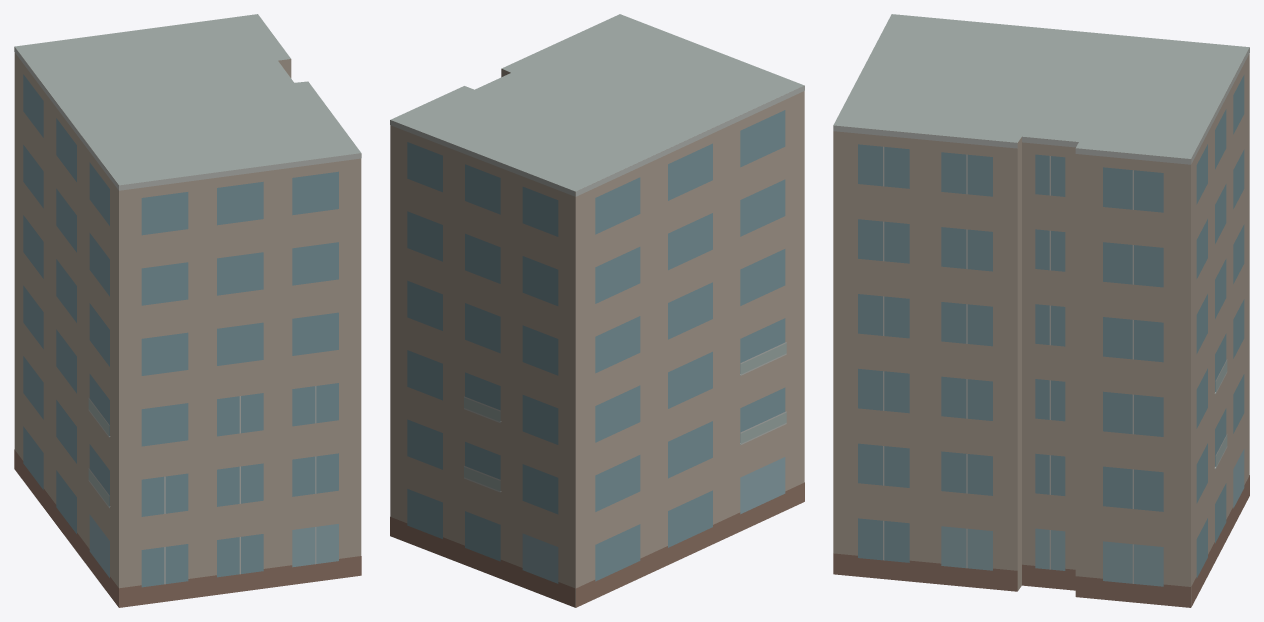
Rendered from survey-upis-32508622.glb.
The picture shows the model from 3 angles, left to right: view 1: azimuth 30°, elevation 25°; view 2: azimuth 150°, elevation 25°; view 3: azimuth 270°, elevation 25°; orthographic projection. The views are drawn at different scales.
Parts seen in each view (by area): view 1: survey-upis-32508622.tmp; view 2: survey-upis-32508622.tmp; view 3: survey-upis-32508622.tmp.
Part boxes in pixels (bbox=[...]): survey-upis-32508622.tmp: bbox=[14, 14, 361, 607]; survey-upis-32508622.tmp: bbox=[390, 14, 804, 607]; survey-upis-32508622.tmp: bbox=[833, 14, 1249, 607].
Bounding box in the file's own units: 13.32 × 19.2 × 16.16.
